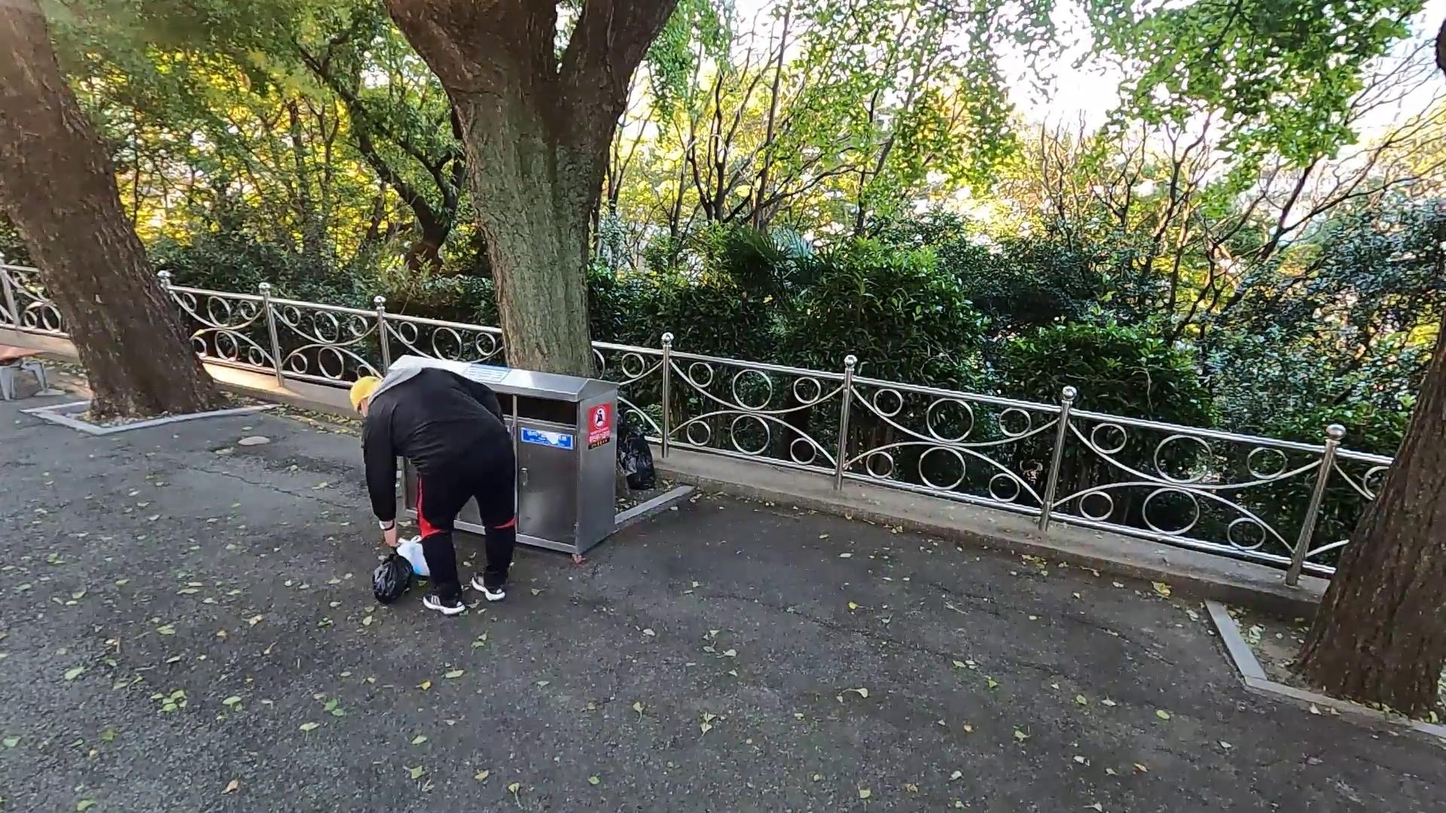person: (345, 363, 522, 619)
trash: (617, 407, 658, 492), (390, 525, 443, 585), (372, 544, 415, 607)
